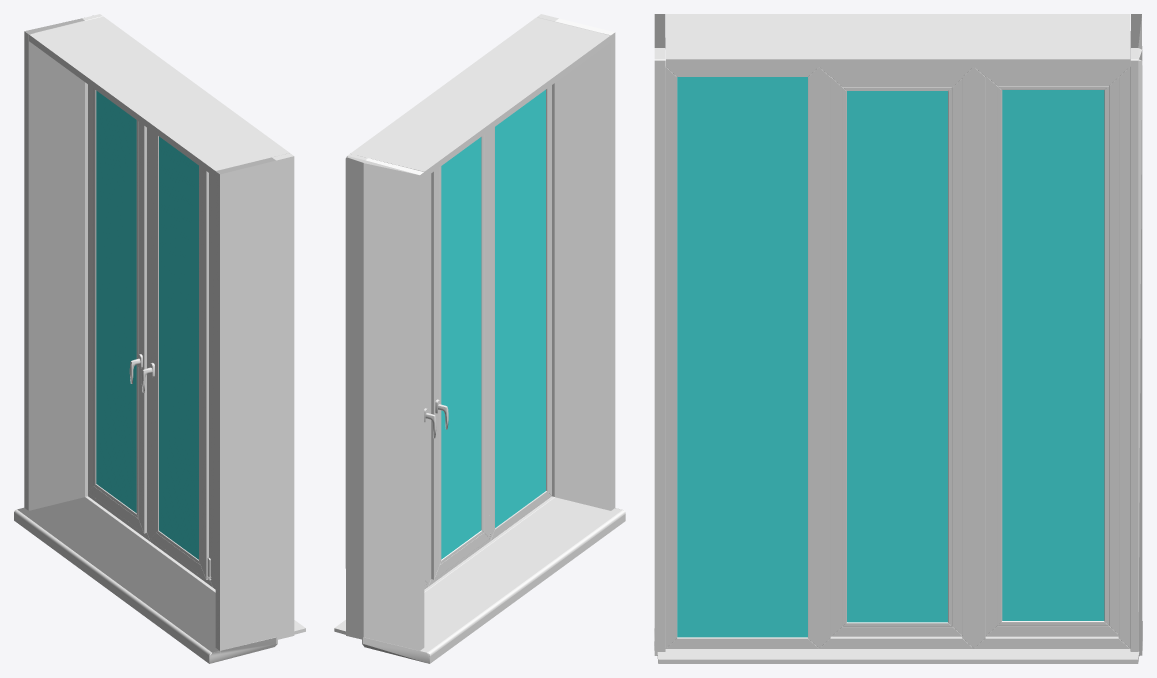
Rendered from window.fbx.
3 views of the same model, side by side, from view 1: azimuth 30°, elevation 25°; view 2: azimuth 150°, elevation 25°; view 3: azimuth 270°, elevation 25° (orthographic). The views are drawn at different scales.
Parts seen in each view (by area): view 1: r1_outside_window, r1_outside_window_open; view 2: r1_outside_window, r1_outside_window_open; view 3: r1_outside_window, r1_outside_window_open.
Boxes of the visible parts, x1,y1,x2,y2 form: r1_outside_window: (14, 14, 305, 663); r1_outside_window_open: (141, 130, 210, 579); r1_outside_window: (334, 14, 625, 663); r1_outside_window_open: (431, 131, 490, 579); r1_outside_window: (654, 14, 1142, 663); r1_outside_window_open: (830, 77, 962, 636).
Size of the model in its own units: 0.4956 by 2.36 by 1.72.
